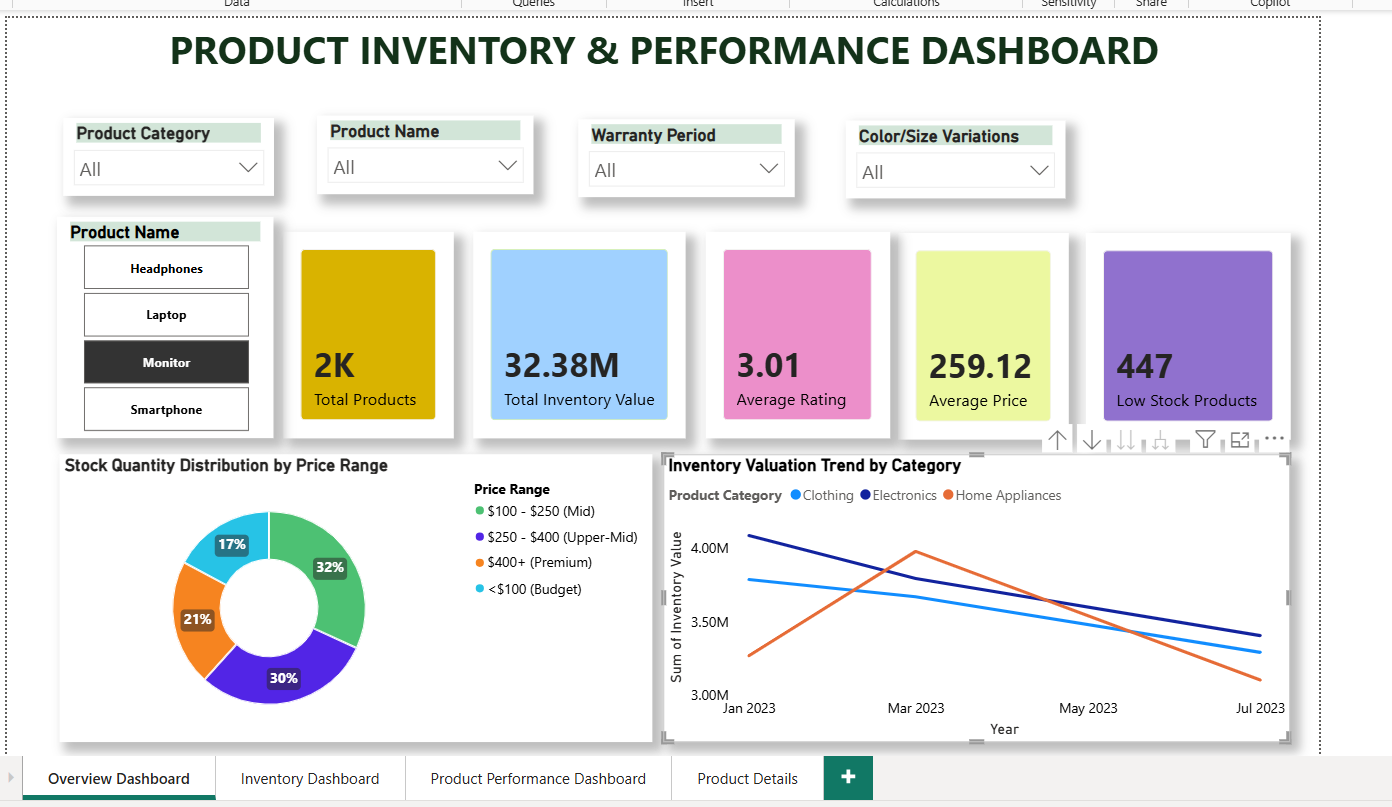

This screenshot's page, from the dashboard's own definition file:
{"tool":"powerbi","page":{"name":"Overview Dashboard","canvas":[1280,720],"ordinal":0},"visuals":[{"type":"cardVisual","fields":{"Data":["products.Total Products"]},"box":[269.6,208.7,166.7,201.4],"z":0},{"type":"cardVisual","fields":{"Data":["products.Total Inventory Value"]},"box":[455.1,208.7,207.2,201.4],"z":1000},{"type":"cardVisual","fields":{"Data":["products.Average Price"]},"box":[869.6,210.1,166.7,201.4],"z":2000},{"type":"cardVisual","fields":{"Data":["products.Average Rating"]},"box":[681.2,208.7,179.7,201.4],"z":3000},{"type":"cardVisual","fields":{"Data":["products.Low Stock Products"]},"box":[1052.2,210.1,200,201.4],"z":4000},{"type":"textbox","box":[121.4,0,1038.6,62.9],"z":5000},{"type":"slicer","fields":{"Values":["products.Product Name"]},"box":[48.6,194.3,211.4,215.7],"z":6000},{"type":"slicer","fields":{"Values":["products.Product Category"]},"box":[54.3,97.1,205.7,75.7],"z":7000},{"type":"slicer","fields":{"Values":["products.Color/Size Variations"]},"box":[818.6,100,214.3,75.7],"z":8000},{"type":"slicer","fields":{"Values":["products.Warranty Period"]},"box":[557.1,98.6,211.4,75.7],"z":9000},{"type":"slicer","fields":{"Values":["products.Product Name"]},"box":[302.9,95.7,211.4,77.1],"z":14000},{"type":"donutChart","title":"Stock Quantity Distribution by Price Range","fields":{"Category":["products.Price Range"],"Y":["Sum(products.Stock Quantity)"]},"box":[50.7,426.1,578.3,281.2],"z":27000},{"type":"lineChart","title":"Inventory Valuation Trend by Category","fields":{"Category":["products.Manufacturing Date.Variation.Date Hierarchy.Year","products.Manufacturing Date.Variation.Date Hierarchy.Month"],"Y":["Sum(products.Inventory Value)"],"Series":["products.Product Category"]},"box":[640.6,426.1,611.6,281.2],"z":28000}]}

Visuals, with their boxes on the page's 1280x720 design canvas (x1, y1, x2, y2). These are canvas units, not pixel positions in the 1392x807 screenshot, which may show the page scaled, cropped or inside an application window:
cardVisual - products.Total Products: detection(270, 209, 436, 410)
cardVisual - products.Total Inventory Value: detection(455, 209, 662, 410)
cardVisual - products.Average Price: detection(870, 210, 1036, 412)
cardVisual - products.Average Rating: detection(681, 209, 861, 410)
cardVisual - products.Low Stock Products: detection(1052, 210, 1252, 412)
textbox: detection(121, 0, 1160, 63)
slicer - products.Product Name: detection(49, 194, 260, 410)
slicer - products.Product Category: detection(54, 97, 260, 173)
slicer - products.Color/Size Variations: detection(819, 100, 1033, 176)
slicer - products.Warranty Period: detection(557, 99, 768, 174)
slicer - products.Product Name: detection(303, 96, 514, 173)
"Stock Quantity Distribution by Price Range" donutChart: detection(51, 426, 629, 707)
"Inventory Valuation Trend by Category" lineChart: detection(641, 426, 1252, 707)
